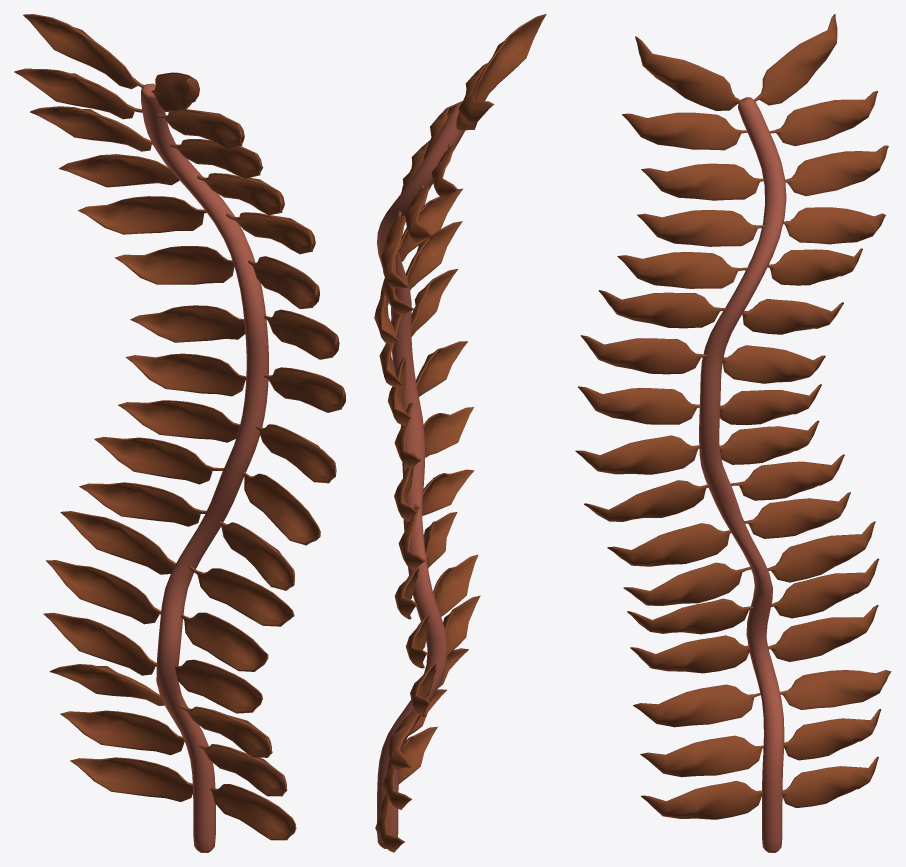
Rendered from Planta  Fuego.fbx.
The picture shows the model from 3 angles, left to right: view 1: azimuth 30°, elevation 25°; view 2: azimuth 150°, elevation 25°; view 3: azimuth 270°, elevation 25°; orthographic projection. The views are drawn at different scales.
Visible parts, largest first — view 1: pCylinder1, pasted__pCube19, pasted__pCube24, pasted__pCube18, pasted__pCube32, pasted__pCube35, pasted__pCube25, pasted__pCube26, pasted__pCube29, pasted__pCube27, pasted__pCube23, pasted__pasted__pCube28 (+23 smaller); view 2: pCylinder1, pasted__pasted__pCube33, pasted__pasted__pCube23, pasted__pasted__pCube26, pasted__pasted__pCube29, pasted__pasted__pCube27, pasted__pasted__pCube25, pasted__pasted__pCube18, pasted__pasted__pCube24, pasted__pCube21, pasted__pasted__pCube30, pasted__pasted__pCube28 (+19 smaller); view 3: pCylinder1, pasted__pasted__pCube19, pasted__pasted__pCube20, pasted__pasted__pCube31, pasted__pasted__pCube22, pasted__pasted__pCube32, pasted__pasted__pCube21, pasted__pasted__pCube24, pasted__pasted__pCube25, pasted__pCube31, pasted__pasted__pCube23, pasted__pasted__pCube27 (+23 smaller).
Part boxes in pixels (bbox=[...]): pCylinder1: bbox=[141, 83, 268, 852]; pasted__pCube19: bbox=[78, 196, 206, 234]; pasted__pCube24: bbox=[125, 353, 246, 396]; pasted__pCube18: bbox=[114, 246, 234, 284]; pasted__pCube32: bbox=[60, 710, 184, 755]; pasted__pCube35: bbox=[70, 757, 192, 801]; pasted__pCube25: bbox=[118, 400, 239, 442]; pasted__pCube26: bbox=[94, 437, 223, 484]; pasted__pCube29: bbox=[46, 560, 161, 624]; pasted__pCube27: bbox=[79, 482, 206, 526]; pasted__pCube23: bbox=[130, 305, 245, 342]; pasted__pasted__pCube28: bbox=[188, 566, 294, 626]; pCylinder1: bbox=[377, 103, 465, 848]; pasted__pasted__pCube33: bbox=[473, 14, 546, 101]; pasted__pasted__pCube23: bbox=[405, 221, 462, 290]; pasted__pasted__pCube26: bbox=[423, 407, 473, 457]; pasted__pasted__pCube29: bbox=[433, 554, 478, 616]; pasted__pasted__pCube27: bbox=[422, 469, 474, 515]; pasted__pasted__pCube25: bbox=[416, 341, 467, 396]; pasted__pasted__pCube18: bbox=[398, 188, 462, 261]; pasted__pasted__pCube24: bbox=[411, 269, 457, 336]; pasted__pCube21: bbox=[381, 211, 408, 288]; pasted__pasted__pCube30: bbox=[443, 595, 480, 655]; pasted__pasted__pCube28: bbox=[423, 512, 457, 568]; pCylinder1: bbox=[699, 97, 786, 852]; pasted__pasted__pCube19: bbox=[617, 252, 748, 288]; pasted__pasted__pCube20: bbox=[637, 210, 765, 246]; pasted__pasted__pCube31: bbox=[633, 684, 760, 727]; pasted__pasted__pCube22: bbox=[622, 112, 747, 150]; pasted__pasted__pCube32: bbox=[640, 735, 763, 777]; pasted__pasted__pCube21: bbox=[641, 163, 764, 200]; pasted__pasted__pCube24: bbox=[578, 386, 700, 424]; pasted__pasted__pCube25: bbox=[575, 435, 699, 474]; pasted__pCube31: bbox=[780, 670, 891, 709]; pasted__pasted__pCube23: bbox=[580, 335, 707, 374]; pasted__pasted__pCube27: bbox=[607, 523, 731, 566].
Size of the model in its own units: 2.42 by 10.01 by 3.71.
